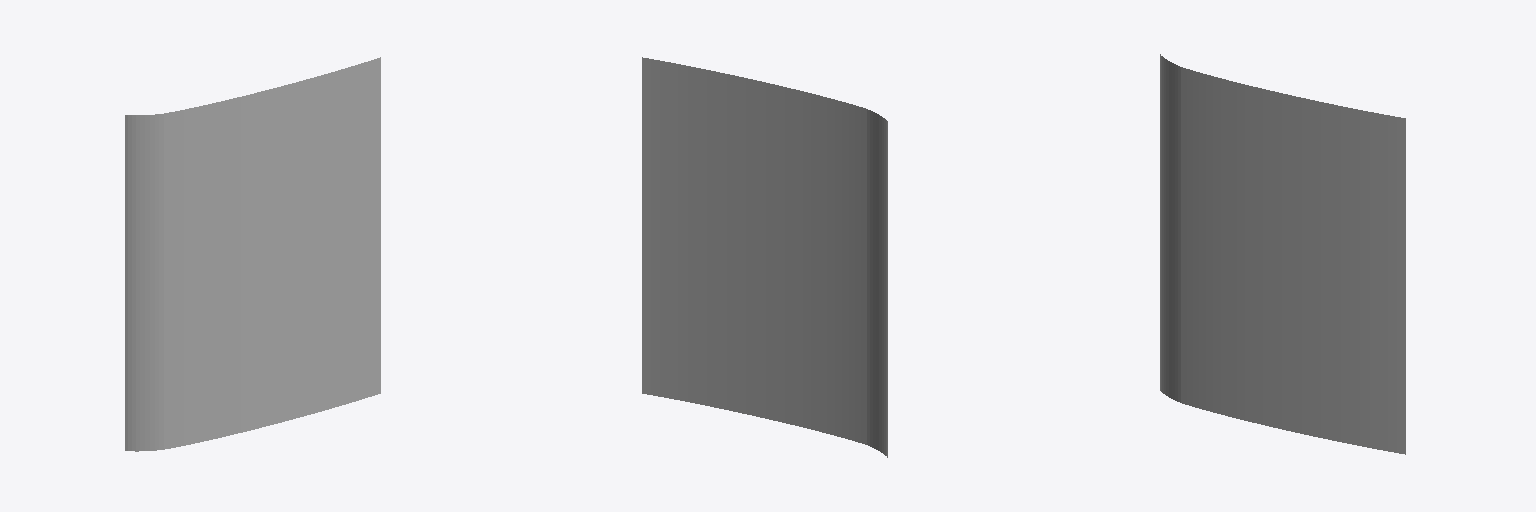
The model's file is right-list2.obj.
3 renders of one model, left to right at view 1: azimuth 30°, elevation 25°; view 2: azimuth 150°, elevation 25°; view 3: azimuth 330°, elevation 25°, orthographic.
Parts seen in each view (by area): view 1: Cube.002; view 2: Cube.002; view 3: Cube.002.
Part boxes in pixels (bbox=[...]): Cube.002: bbox=[125, 57, 380, 451]; Cube.002: bbox=[642, 57, 887, 457]; Cube.002: bbox=[1160, 54, 1405, 454].
Size of the model in its own units: 1.88 by 2.41 by 0.136.